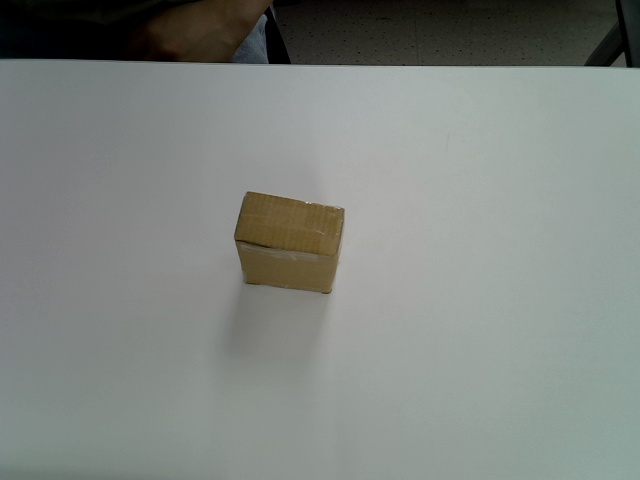normal: (234, 191, 345, 295)
